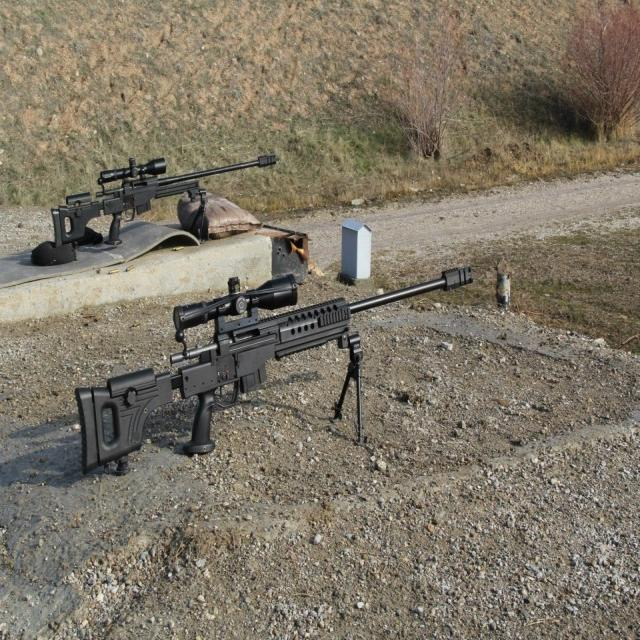firearm: (75, 263, 473, 469), (51, 153, 276, 250)
